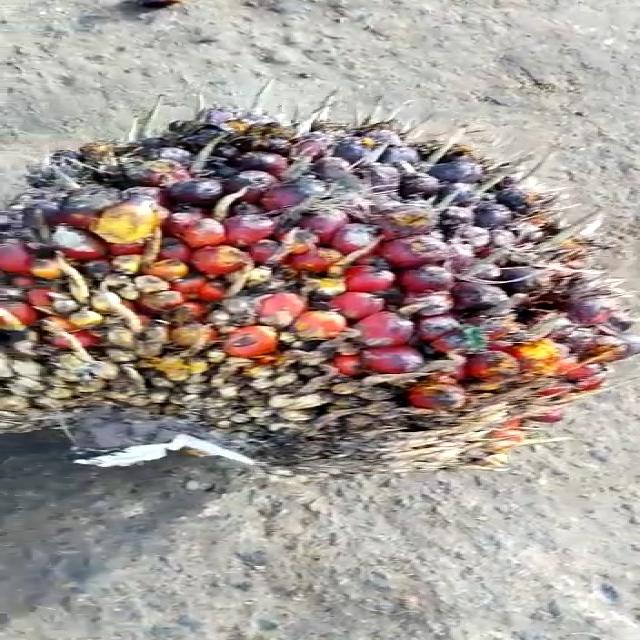palm oil: (0, 95, 640, 479)
